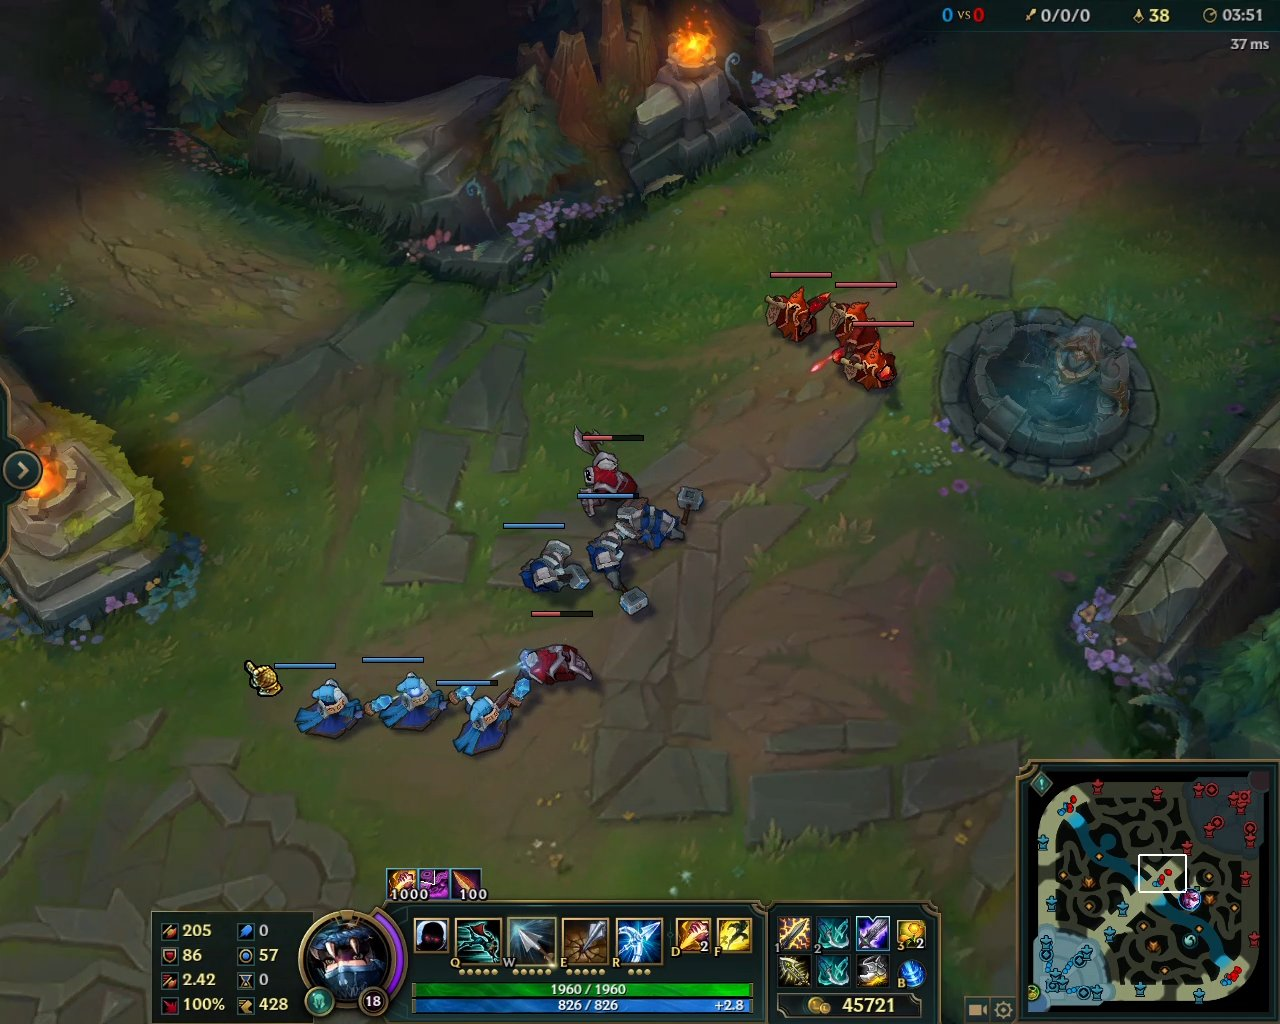EnemyMinion: (513, 606, 598, 699), (571, 427, 647, 520), (832, 320, 914, 395), (827, 281, 898, 360), (763, 270, 833, 349)
